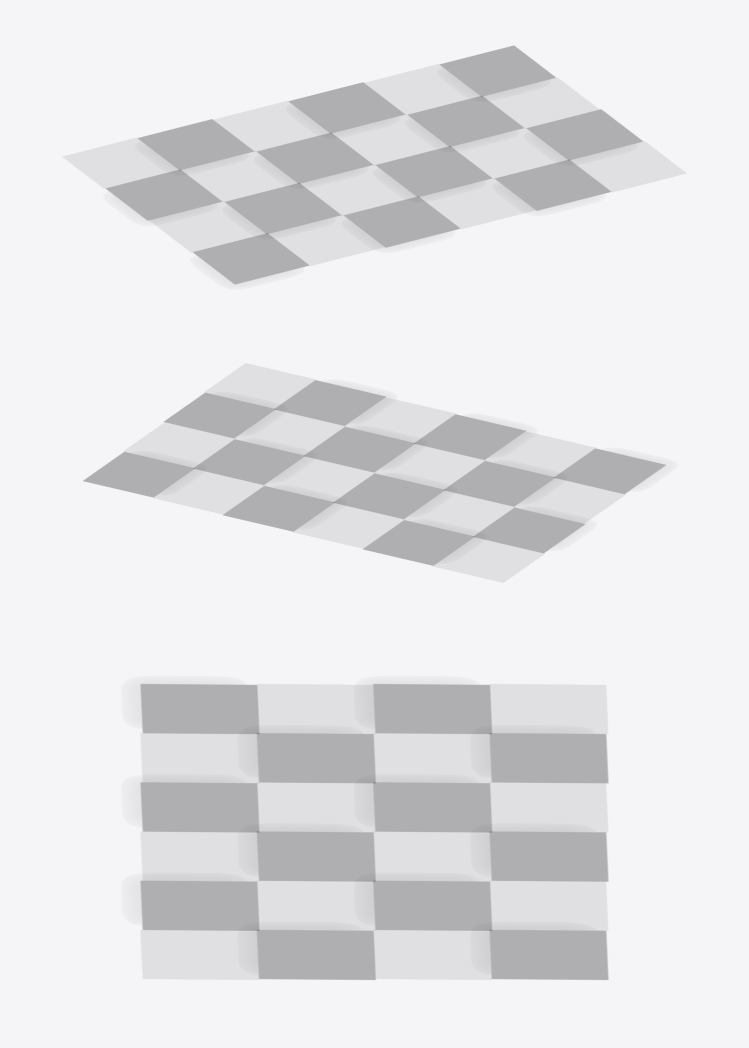
3 views of the same model, one above another, from view 1: azimuth 30°, elevation 25°; view 2: azimuth 150°, elevation 25°; view 3: azimuth 270°, elevation 25° (orthographic). The views are drawn at different scales.
Parts seen in each view (by area): view 1: Group.003, Group.005, Group.009, Group.007, Group.006, Group.008; view 2: Group.009, Group.007, Group.005, Group.006, Group.008, Group.003; view 3: Group.006, Group.007, Group.005, Group.008, Group.009, Group.003.
Boxes of the visible parts, bbox=[...] form: Group.003: bbox=[408, 46, 555, 146]; Group.005: bbox=[257, 82, 404, 183]; Group.009: bbox=[495, 109, 642, 210]; Group.007: bbox=[193, 183, 340, 284]; Group.006: bbox=[106, 119, 253, 220]; Group.008: bbox=[344, 146, 491, 247]; Group.009: bbox=[164, 380, 385, 437]; Group.007: bbox=[444, 448, 665, 506]; Group.005: bbox=[224, 473, 444, 531]; Group.006: bbox=[363, 508, 584, 565]; Group.008: bbox=[304, 414, 525, 472]; Group.003: bbox=[83, 439, 304, 497]; Group.006: bbox=[373, 684, 607, 782]; Group.007: bbox=[140, 684, 375, 782]; Group.005: bbox=[373, 782, 607, 881]; Group.008: bbox=[140, 782, 375, 881]; Group.009: bbox=[140, 880, 375, 979]; Group.003: bbox=[373, 881, 607, 979].
Bounding box in the file's own units: 8.2 × 0 × 6.2.
24 materials, 24 textured.
